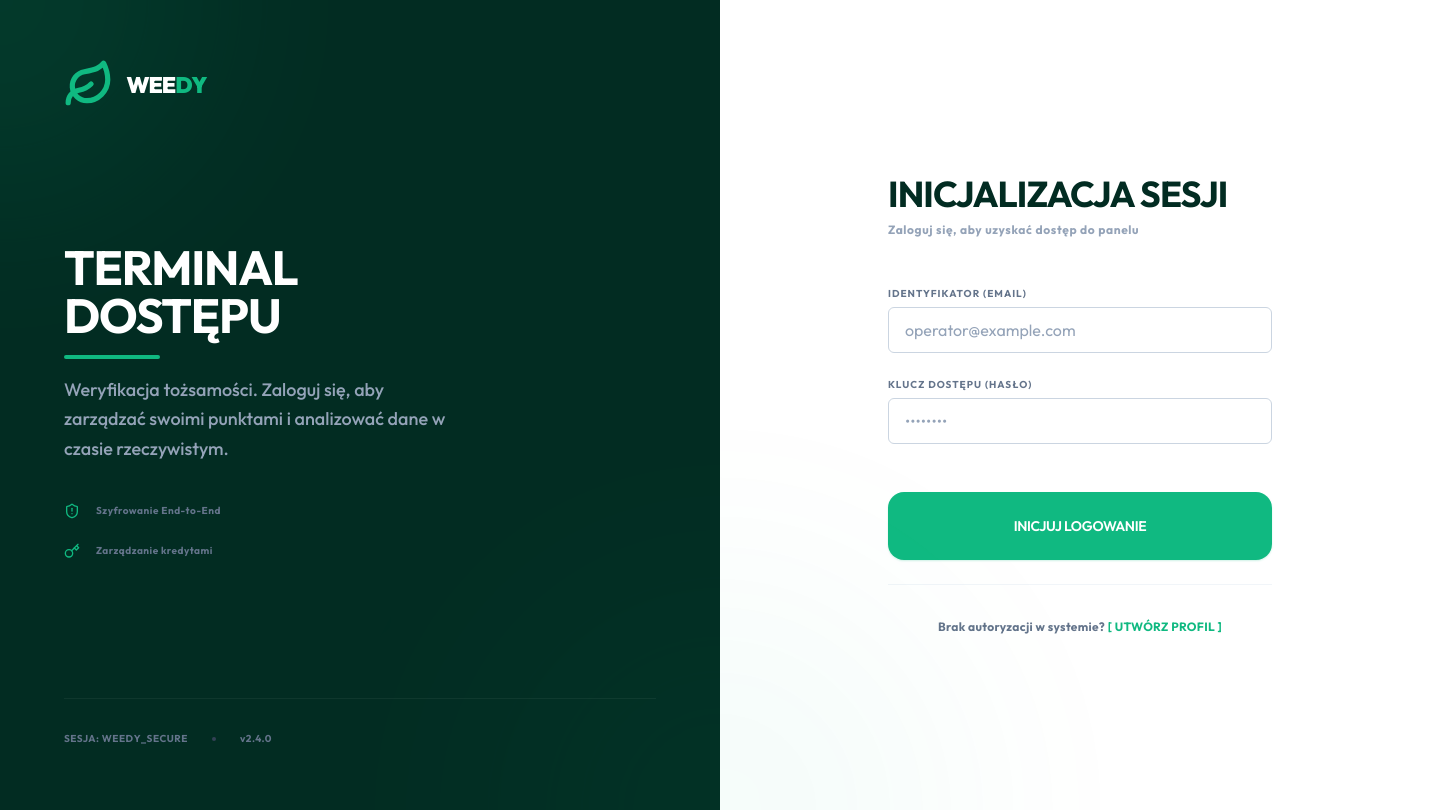
Scenario: Login Component › shows validation errors for empty fields
Click the button "INICJUJ LOGOWANIE": point(1080, 526) [888,492,1272,560]
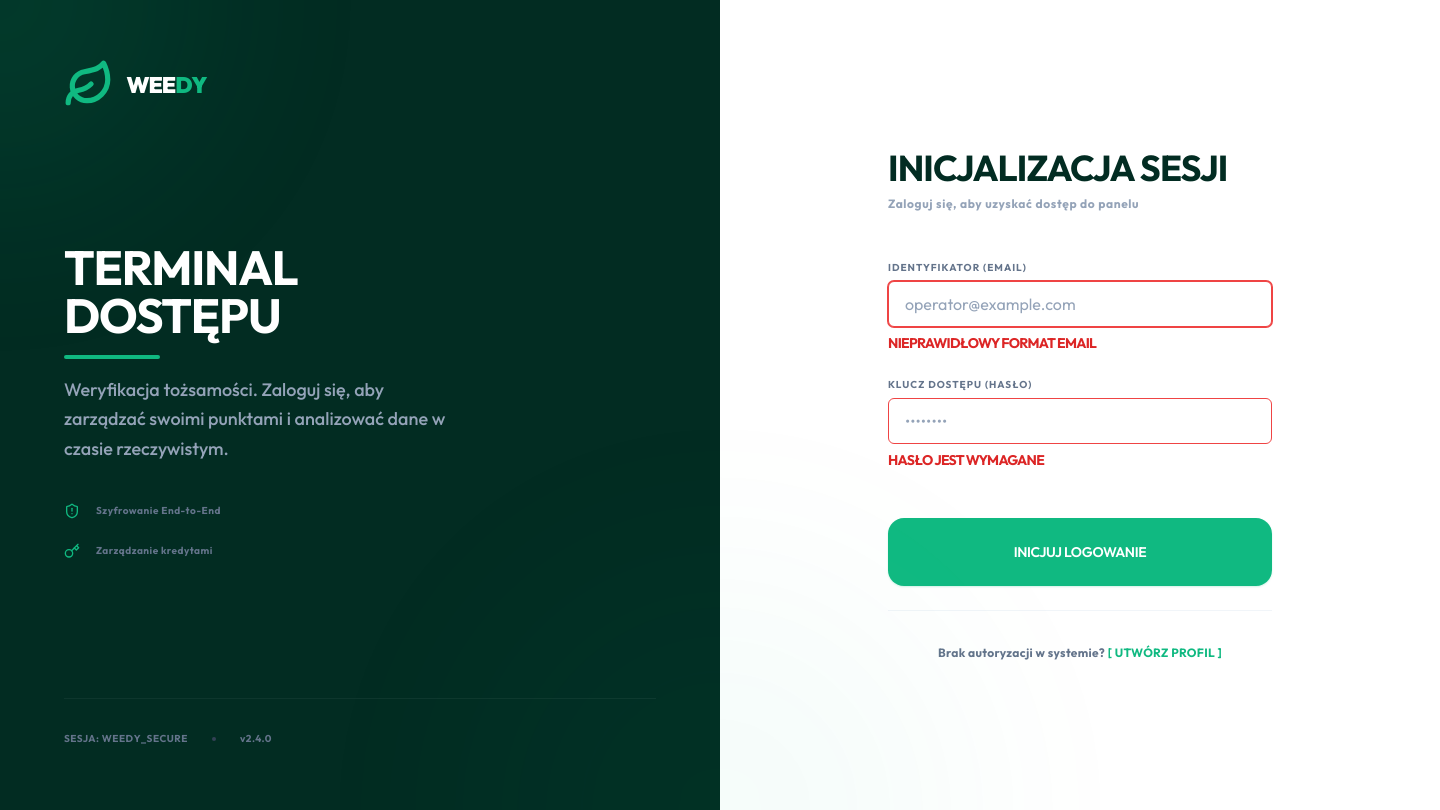
Expected: the text "Nieprawidłowy format email" is shown, [888,334,1096,352]
Expected: the text "Hasło jest wymagane" is shown, [888,451,1044,469]
